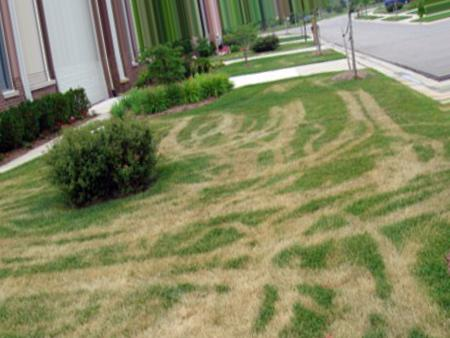patch: (98, 225, 214, 286), (250, 198, 353, 250), (347, 122, 418, 196), (229, 278, 288, 338), (221, 118, 305, 151), (223, 155, 262, 192)
